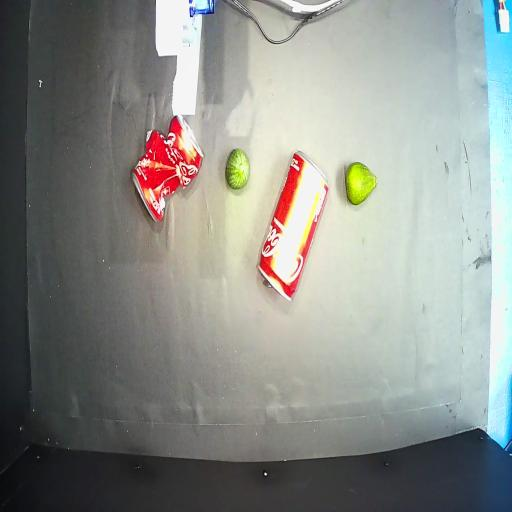higo: (345, 163, 377, 205), (225, 148, 250, 190)
lata: (259, 151, 328, 300)
lata_defectuoso: (132, 116, 203, 221)
